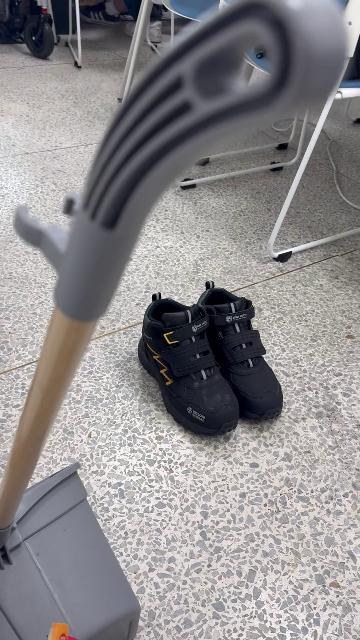shoe_worn: (141, 294, 241, 437), (193, 279, 284, 421)
